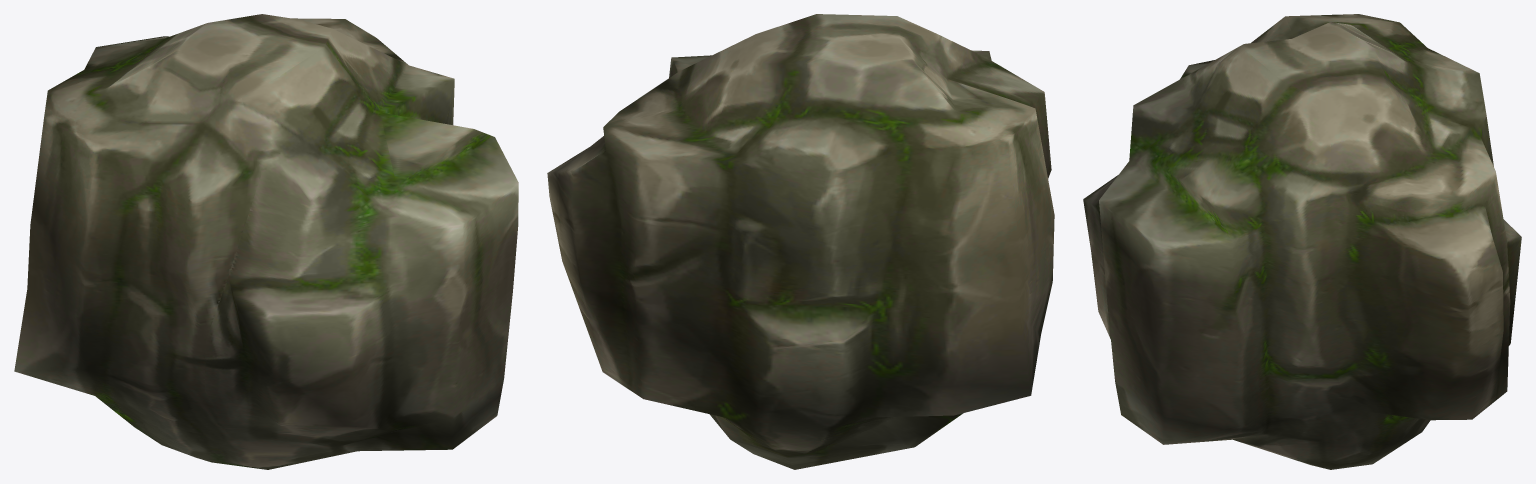
The model's file is RockFormation_4_2 (72).fbx.
The picture shows the model from 3 angles, left to right: view 1: azimuth 30°, elevation 25°; view 2: azimuth 150°, elevation 25°; view 3: azimuth 270°, elevation 25°; orthographic projection. The views are drawn at different scales.
Parts seen in each view (by area): view 1: RockFormation_4_2 (72); view 2: RockFormation_4_2 (72); view 3: RockFormation_4_2 (72).
Part boxes in pixels (left/top/right/bottom): RockFormation_4_2 (72): left=14, top=14, right=518, bottom=469; RockFormation_4_2 (72): left=547, top=14, right=1054, bottom=469; RockFormation_4_2 (72): left=1083, top=14, right=1521, bottom=469.
Bounding box in the file's own units: 530 × 489 × 504.
